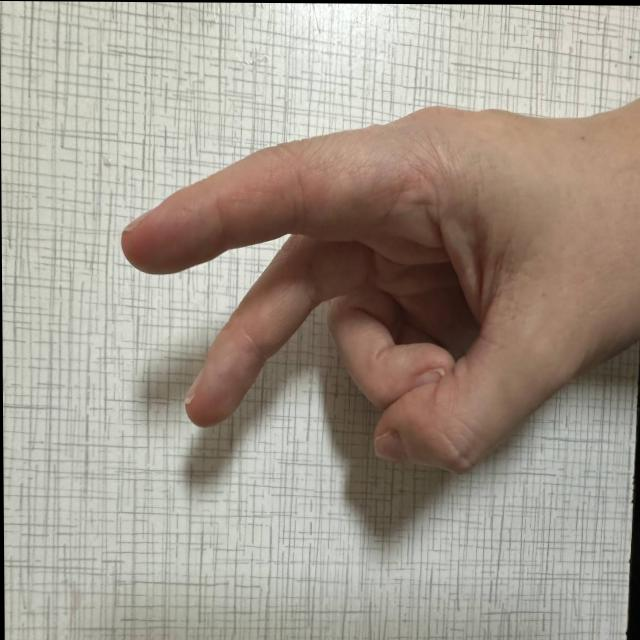k: (131, 88, 565, 514)
